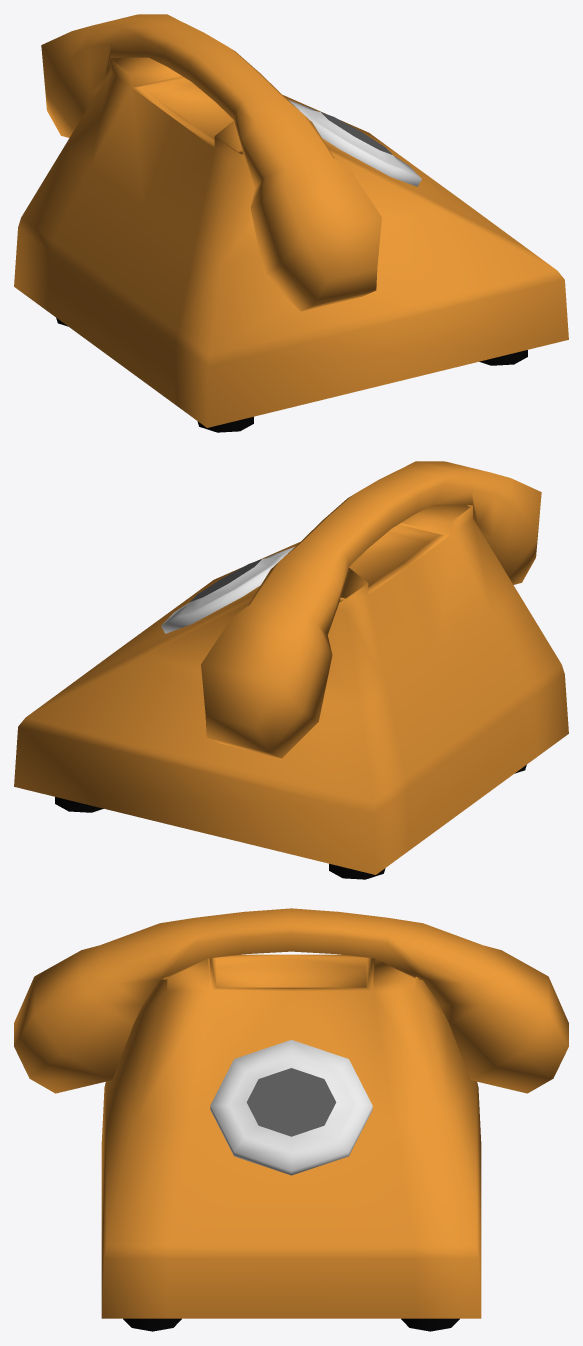
File: SM_Telephone.fbx
3 views of the same model, one above another, from view 1: azimuth 30°, elevation 25°; view 2: azimuth 150°, elevation 25°; view 3: azimuth 270°, elevation 25° (orthographic).
Visible parts, largest first — view 1: Téléphone; view 2: Téléphone; view 3: Téléphone.
Part boxes in pixels (box(x1,y1,x2,y2)): Téléphone: box(14, 14, 568, 432); Téléphone: box(14, 461, 568, 879); Téléphone: box(14, 908, 568, 1331).
Bounding box in the file's own units: 372 × 299 × 503.
